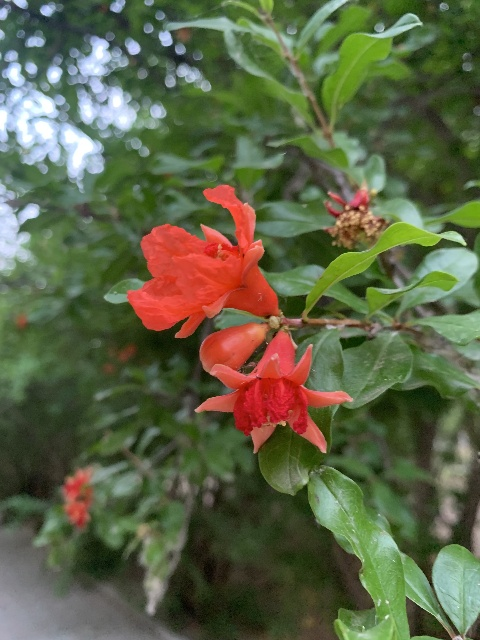bud: (200, 322, 269, 376)
flower: (125, 185, 278, 339), (193, 329, 352, 454)
